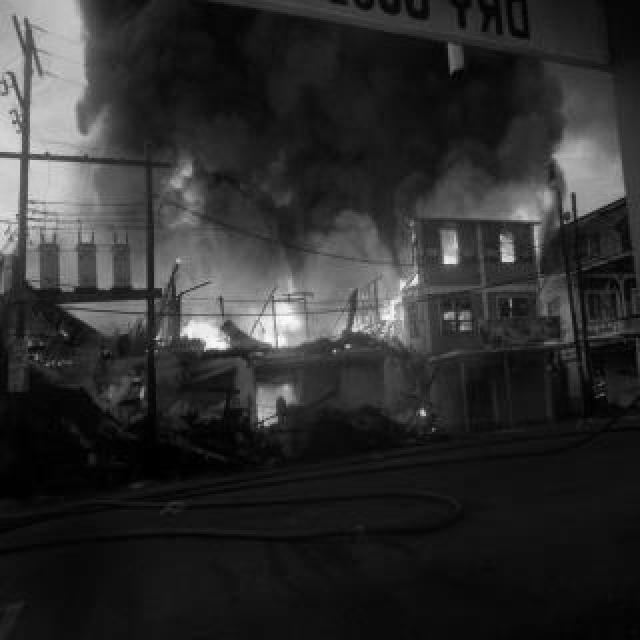Fire: (498, 168, 564, 272), (146, 144, 212, 240), (254, 276, 312, 364), (172, 284, 230, 368), (372, 258, 420, 346), (440, 226, 458, 272)
Smoke: (66, 39, 573, 209)
